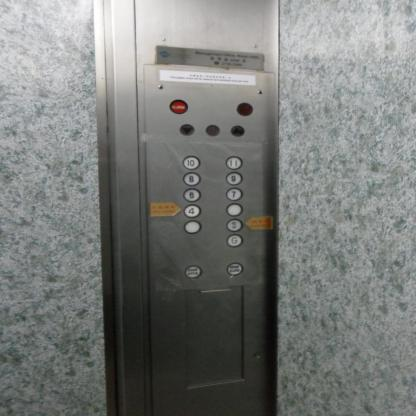10: (181, 155, 200, 170)
11: (224, 156, 242, 170)
3: (226, 218, 242, 231)
4: (182, 203, 202, 218)
6: (182, 188, 200, 202)
7: (225, 186, 242, 200)
8: (183, 172, 201, 186)
9: (225, 171, 242, 185)
G: (226, 234, 243, 247)
down: (178, 123, 195, 136)
empty: (184, 219, 201, 234), (226, 203, 242, 216), (204, 124, 220, 136)
text_alarm bell: (168, 99, 188, 114)
text_close door: (184, 266, 202, 278)
text_open door: (226, 262, 243, 275)
unknown: (235, 102, 254, 116)
up: (229, 124, 245, 137)
